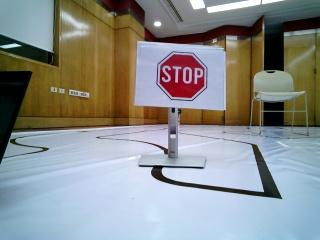stop: (139, 46, 219, 104)
